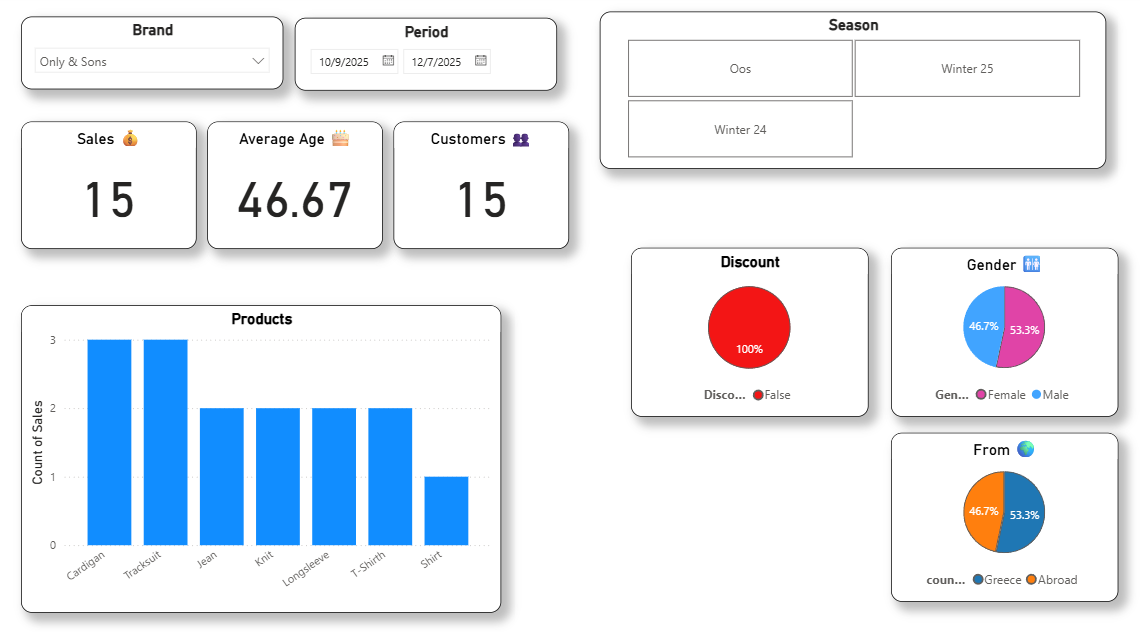

The dashboard page shown, as its layout file describes it:
{"tool":"powerbi","page":{"name":"Per Brand","canvas":[1280,720],"ordinal":3},"visuals":[{"type":"slicer","title":"Brand","fields":{"Values":["retail v_sales_fct.brand"]},"box":[38.5,24.2,287.9,79.8],"z":0},{"type":"card","title":"Sales 💰","fields":{"Values":["CountNonNull(retail v_sales_fct.sales_id)"]},"box":[38.5,139.7,192.4,139.7],"z":1000},{"type":"card","title":"Average Age 🎂","fields":{"Values":["Avg(retail v_customer.age)"]},"box":[242.3,139.7,192.4,139.7],"z":2000},{"type":"pieChart","title":"Gender 🚻","fields":{"Y":["CountNonNull(retail v_customer.gender)"],"Category":["retail v_customer.gender"]},"box":[993.2,278.8,249.4,185.3],"z":3000},{"type":"pieChart","title":"From 🌍","fields":{"Category":["retail v_sales_fct.country"],"Y":["CountNonNull(retail v_sales_fct.country)"]},"box":[993.2,481.2,249.4,185.3],"z":4000},{"type":"slicer","title":"Season","fields":{"Values":["retail v_product.season"]},"box":[674.2,18.5,555.9,172.5],"z":5000},{"type":"card","title":"Customers 👥","fields":{"Values":["Count(retail v_sales_fct.customer_id)"]},"box":[447.6,139.7,192.4,139.7],"z":6000},{"type":"slicer","title":"Period","fields":{"Values":["retail v_kpi_daily.day"]},"box":[339.2,25.7,287.9,79.8],"z":7000},{"type":"clusteredColumnChart","title":"Products","fields":{"Y":["CountNonNull(retail v_product.sale_id)"],"Category":["retail v_product.category"]},"box":[38.5,342.1,527.4,337.8],"z":8000},{"type":"pieChart","title":"Discount","fields":{"Category":["retail v_sales_fct.has_discount"],"Y":["CountNonNull(retail v_sales_fct.has_discount)"]},"box":[708,278.8,260.5,185.9],"z":9000}]}

Visuals, with their boxes in screenshot pixels (x1, y1, x2, y2), scaled from the page's 1280x720 canvas onto the 1140x632 screenshot:
"Brand" slicer: (34,21,291,91)
"Sales 💰" card: (34,123,206,245)
"Average Age 🎂" card: (216,123,387,245)
"Gender 🚻" pieChart: (885,245,1107,407)
"From 🌍" pieChart: (885,422,1107,585)
"Season" slicer: (600,16,1096,168)
"Customers 👥" card: (399,123,570,245)
"Period" slicer: (302,23,559,93)
"Products" clusteredColumnChart: (34,300,504,597)
"Discount" pieChart: (631,245,863,408)
